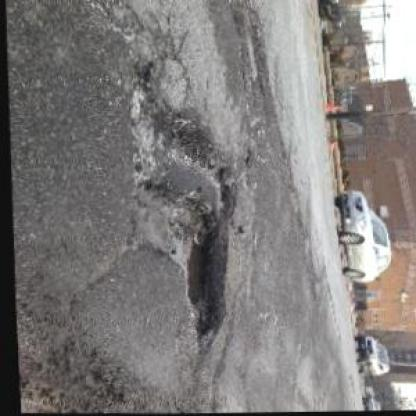pothole: (121, 87, 241, 338), (231, 25, 265, 94)
